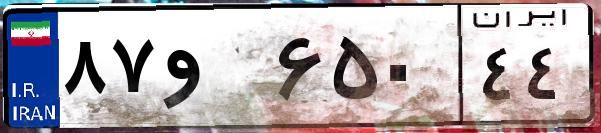0: (385, 28, 445, 110)
4: (475, 38, 525, 113), (525, 38, 570, 115)
5: (330, 28, 385, 110)
6: (270, 28, 330, 110)
7: (110, 28, 158, 98)
8: (57, 26, 110, 100)
و: (158, 20, 270, 120)
